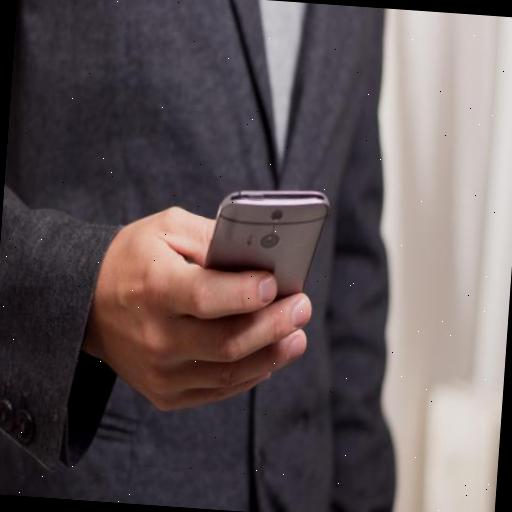phone: (204, 182, 335, 360)
